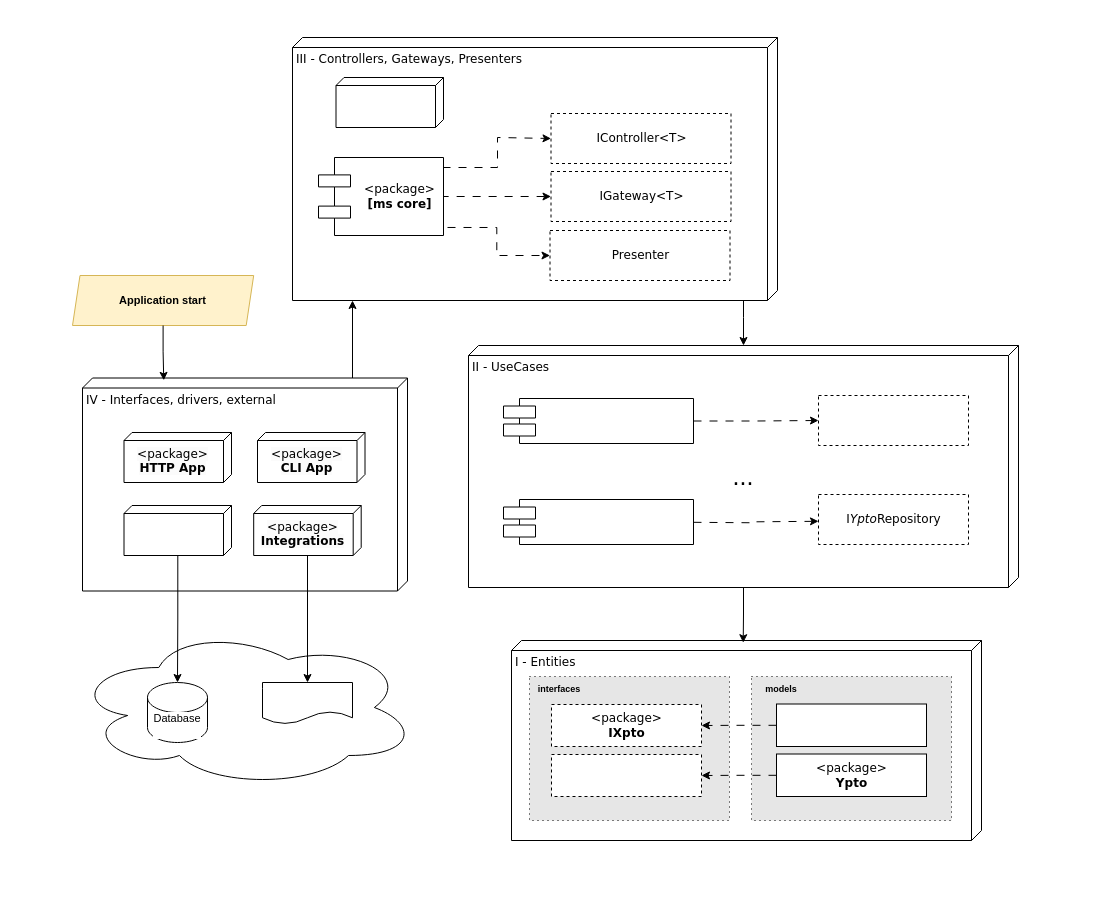
Some shapes in this 1118 by 924 pixel diagram are drawn without their labels. The shapes that lost their labels are listed below. From the top down, each one's centre as x and y in pixels, then its label:
At [389,102]: "<package> DTOs".
At [598,421]: "<package> XptoUseCases".
At [893,420]: "I Xpto Repository".
At [177,530]: "<package> Repositories".
At [598,521]: "<package> YptoUseCases".
At [307,703]: "External APIs".
At [851,724]: "<package> Xpto".
At [626,775]: "<package> IYpto".
